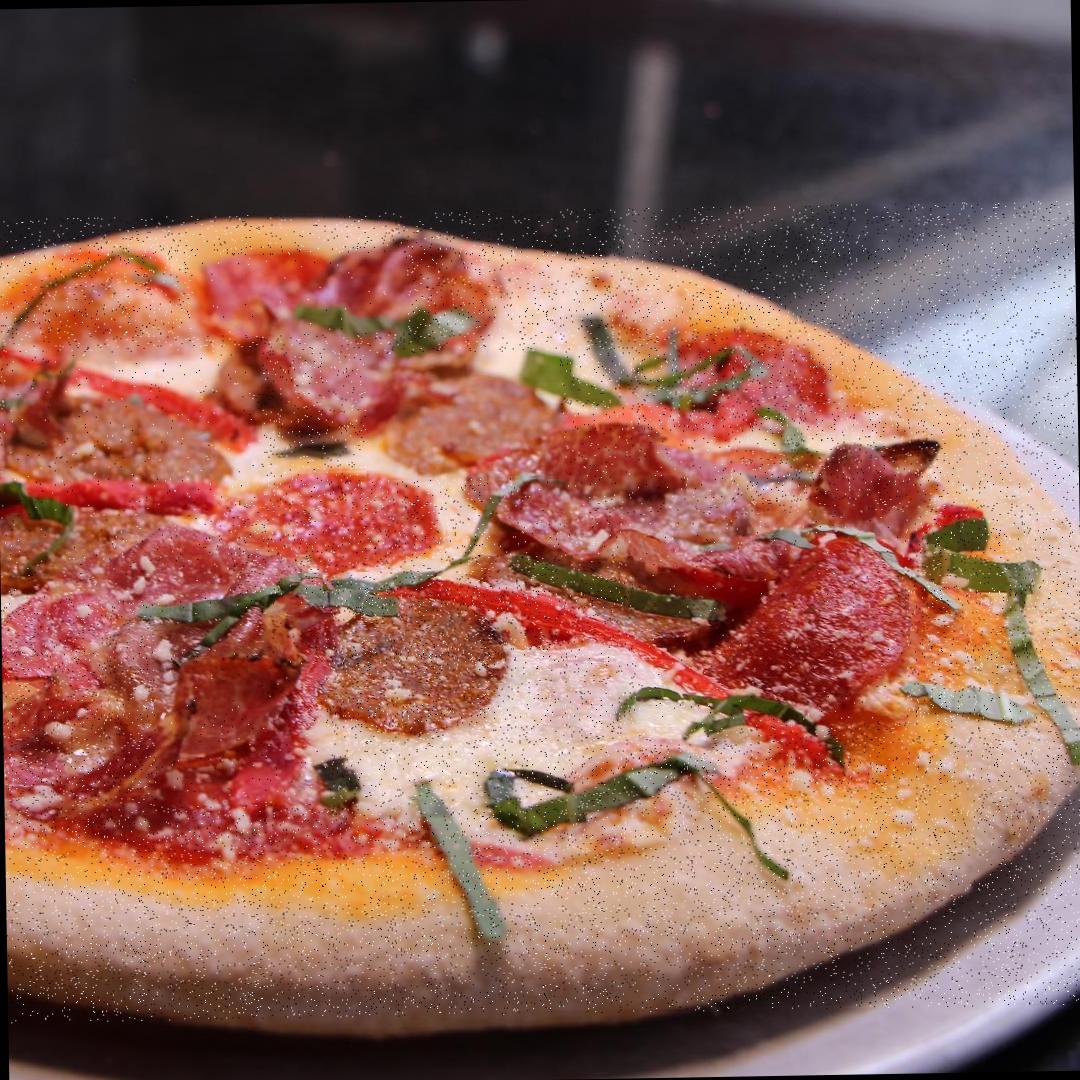Pepperoni: (632, 512, 907, 727), (4, 349, 264, 506), (154, 594, 334, 807), (6, 580, 189, 786), (0, 441, 229, 603), (481, 417, 732, 556), (323, 574, 504, 733), (365, 352, 562, 482), (211, 470, 448, 574), (632, 321, 822, 431), (190, 253, 408, 337), (256, 320, 404, 422)
Pizza: (0, 201, 1080, 1024)
